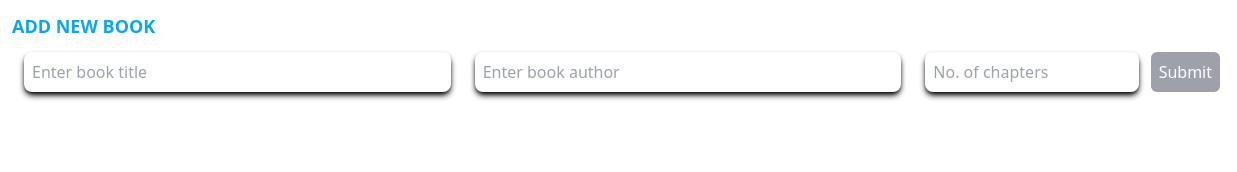
Scenario: AddBook › enables button when input fields are filled with correct values
In the field with test id "title": [237, 72] box [24,52,451,92], type "React for dummies"
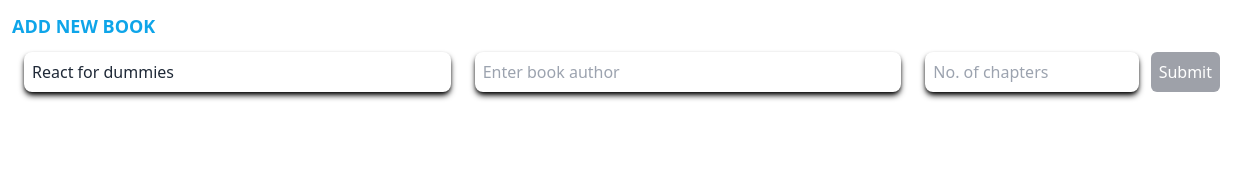
In the field with test id "author": [688, 72] box [475,52,901,92], type "Olanrewaju"
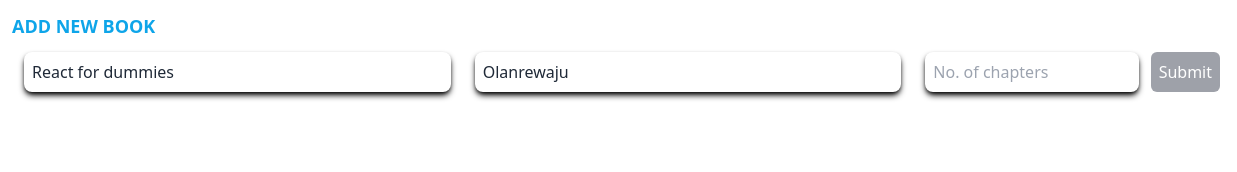
In the number field with test id "chapters": [1032, 72] box [925,52,1139,92], type "30"
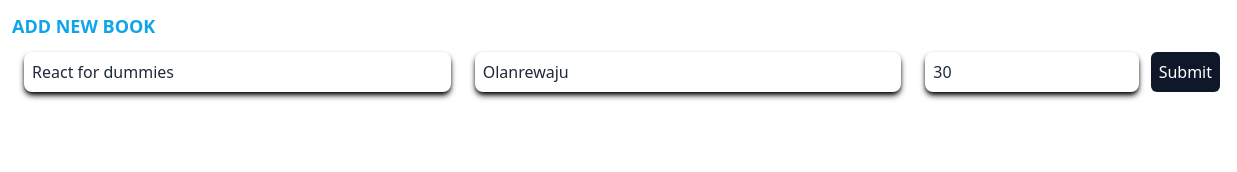
Now the button is enabled, box [1151,52,1220,92]
